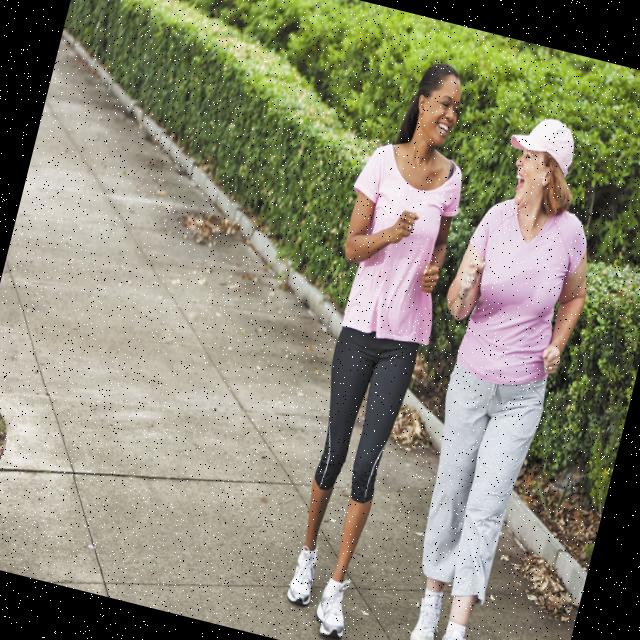Person: (247, 49, 496, 640), (356, 102, 626, 640)
